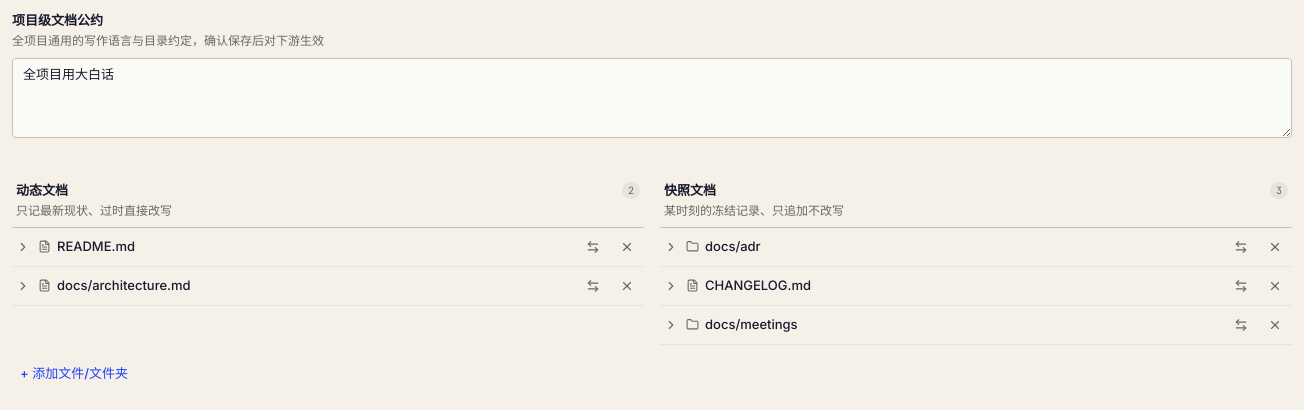
Test: DocumentRegistryEditor · 两栏改判编辑器 › 「+ 添加」把路径以指定桶入表
Click the button "+ 添加文件/文件夹". click: click(74, 374)
box: [12,361,136,387]
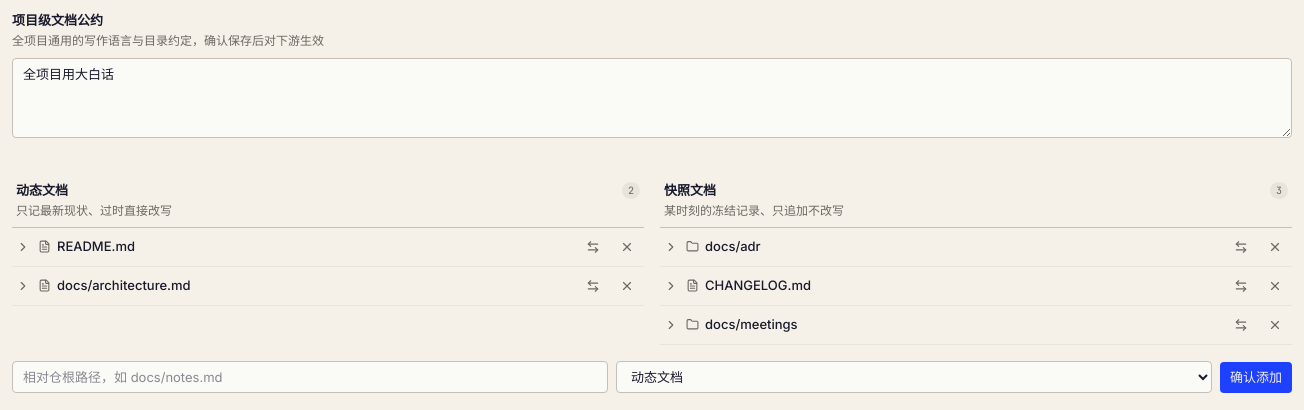
Type "LICENSE" into the field named "要添加的路径". click: (310, 377)
box: [12,361,608,393]
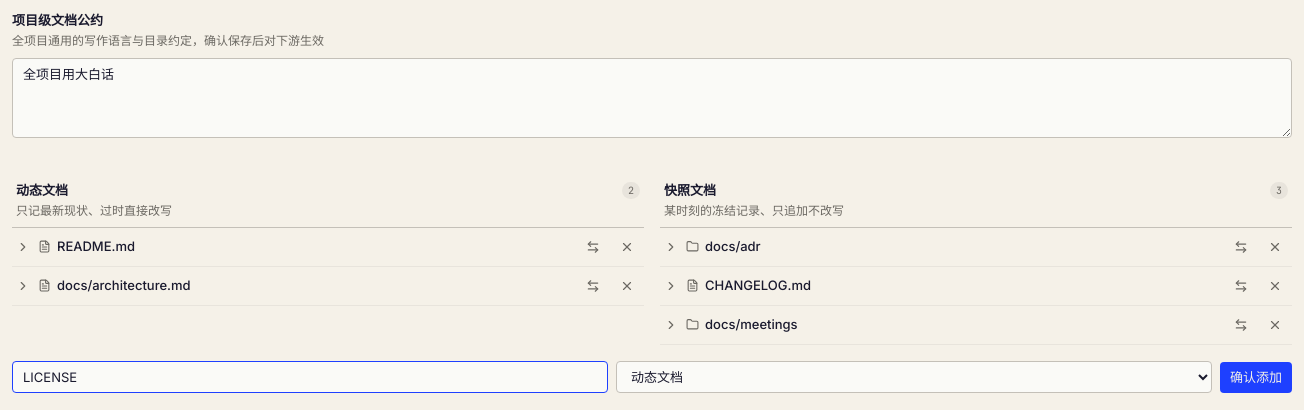
Select "动态文档" in the dropdown named "添加到的桶". click: (914, 377)
box: [616,361,1212,393]
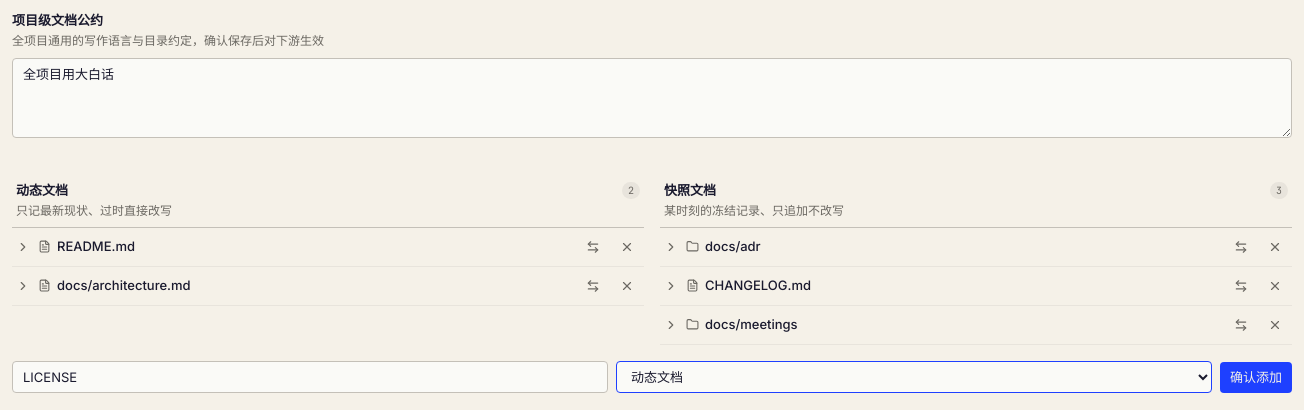
Click the button "确认添加". click: click(1256, 377)
box: [1220,362,1292,393]
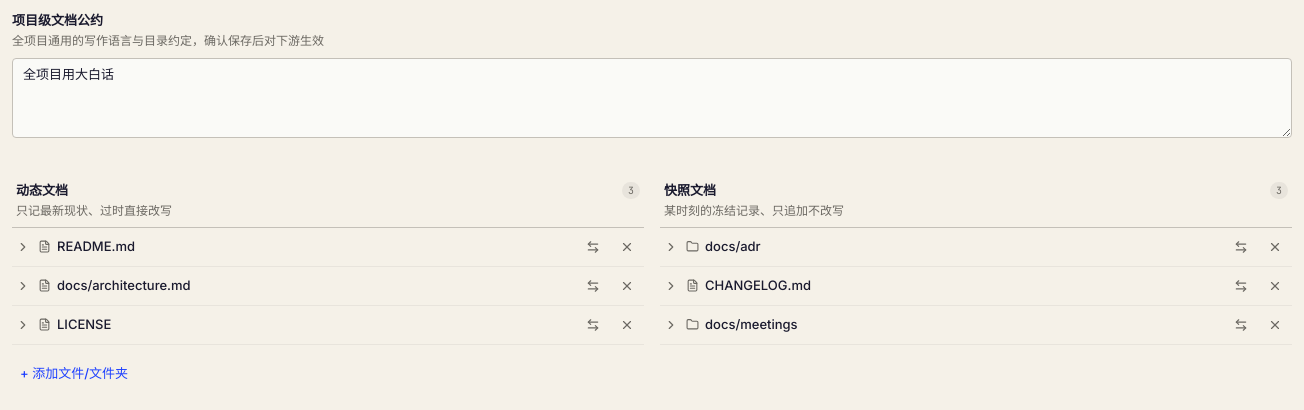
Result: the text "LICENSE" is shown at [57,314,111,334]
